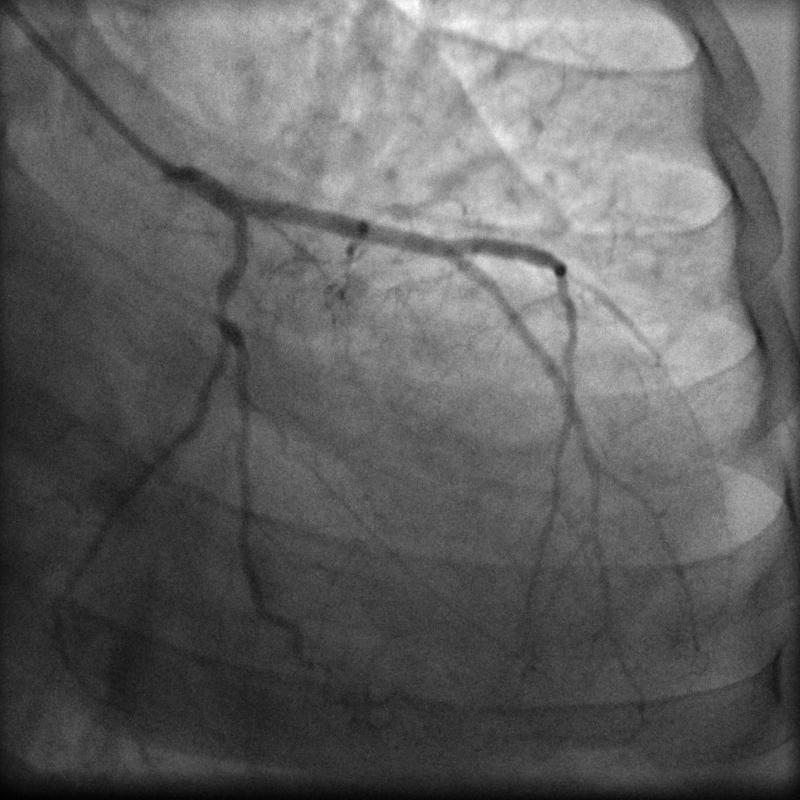Stenosis: (209, 276, 249, 334)
